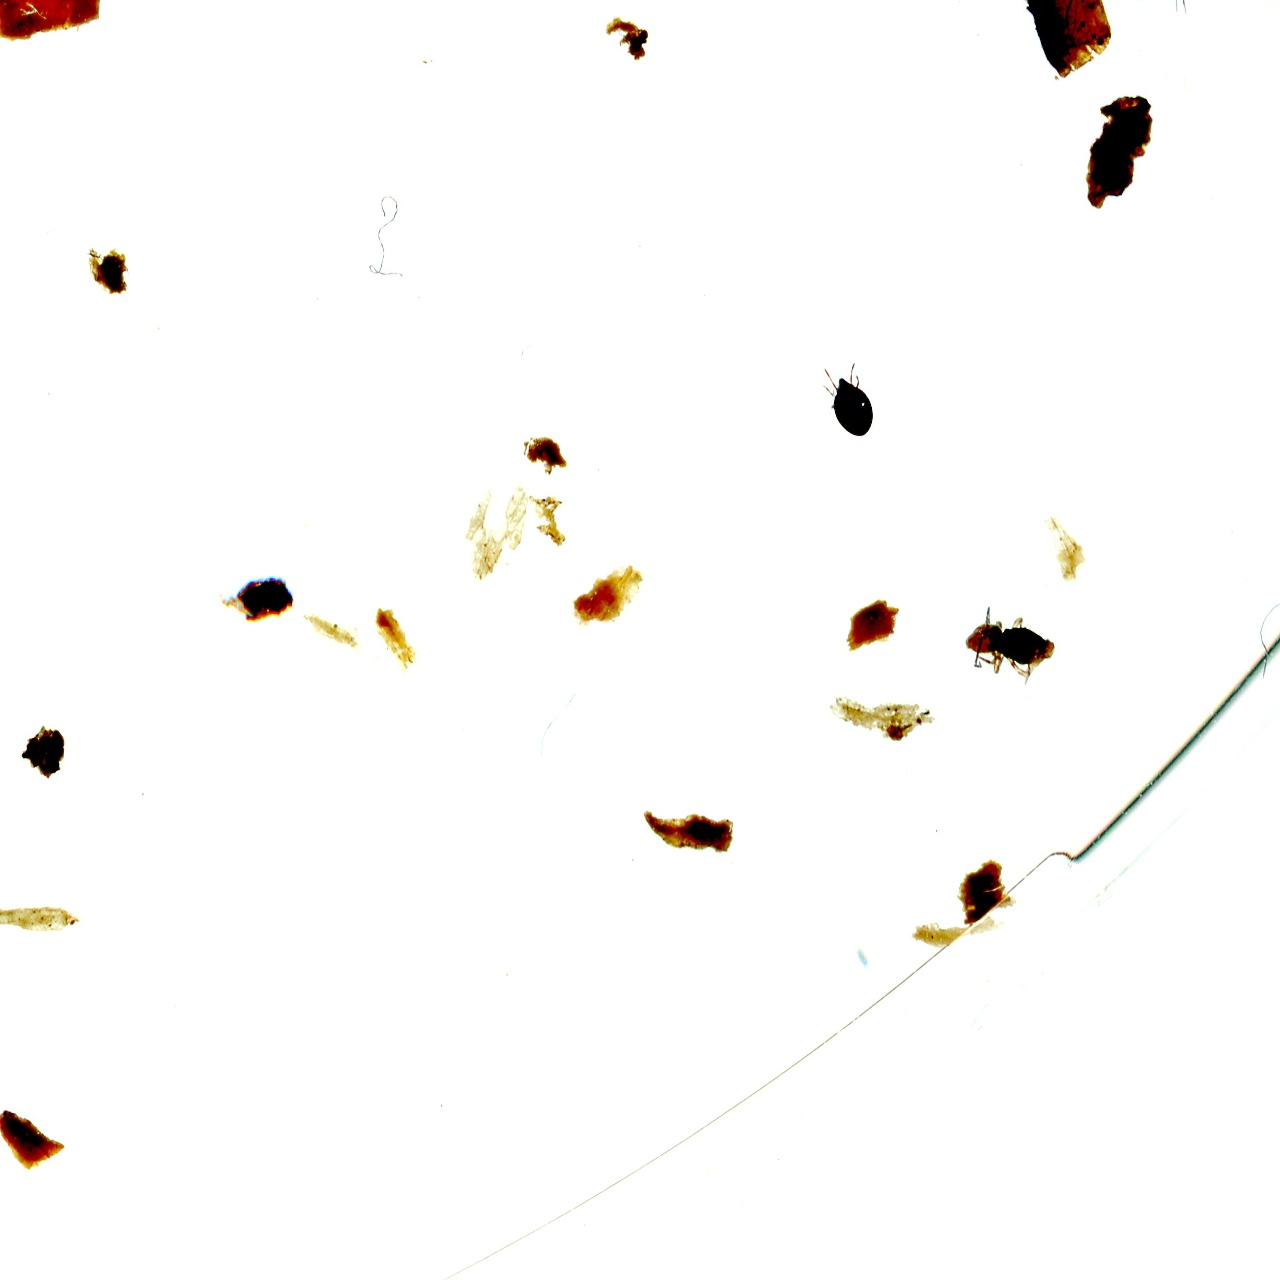arthropod: (964, 602, 1064, 690), (817, 358, 877, 443)
